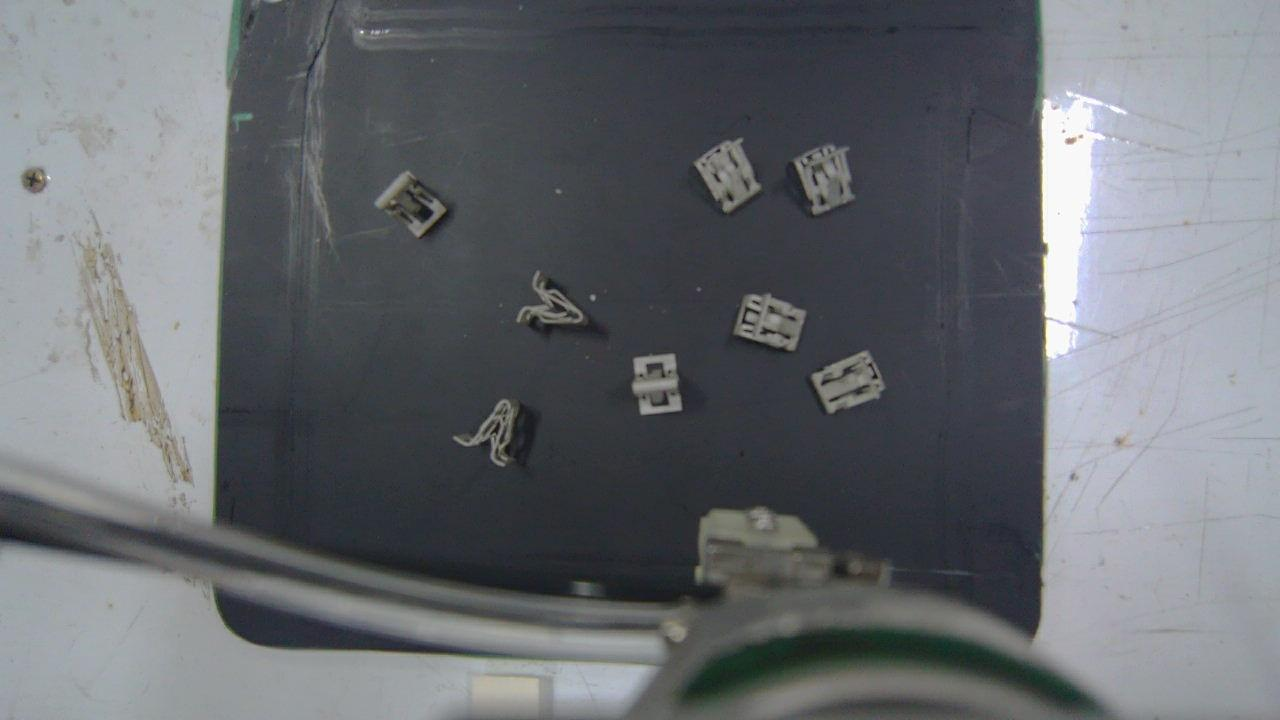ng: (694, 139, 763, 215), (374, 170, 446, 239), (809, 349, 884, 415), (731, 293, 809, 352), (794, 145, 857, 215), (455, 399, 521, 465), (515, 268, 587, 324)
pass: (631, 354, 682, 416)
